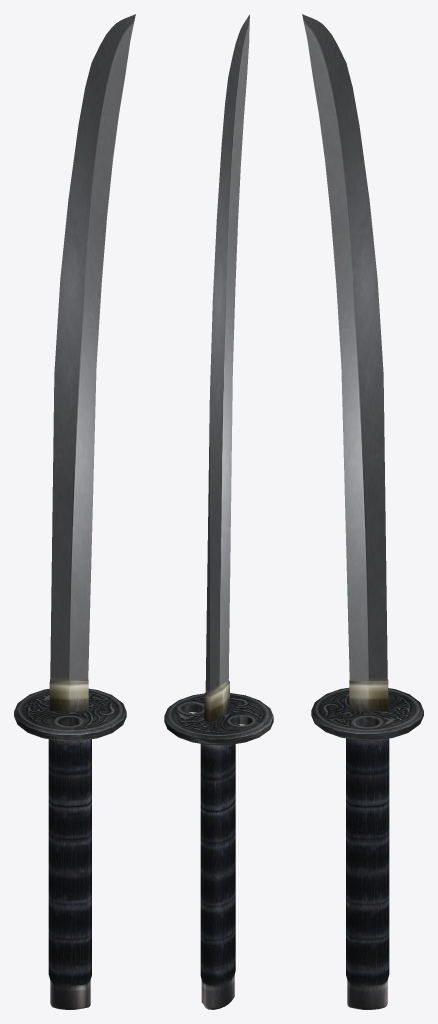
The model's file is weapons_katana.glb.
3 renders of one model, left to right at view 1: azimuth 90°, elevation 25°; view 2: azimuth 150°, elevation 25°; view 3: azimuth 270°, elevation 25°, orthographic. The views are drawn at different scales.
Visible parts, largest first — view 1: katana; view 2: katana; view 3: katana.
Boxes of the visible parts, x1,y1,x2,y2 form: katana: (14,14,135,1009); katana: (164,14,273,1009); katana: (302,14,423,1009).
Size of the model in its own units: 0.1344 by 1.33 by 0.1476.
1 material, 1 textured.
